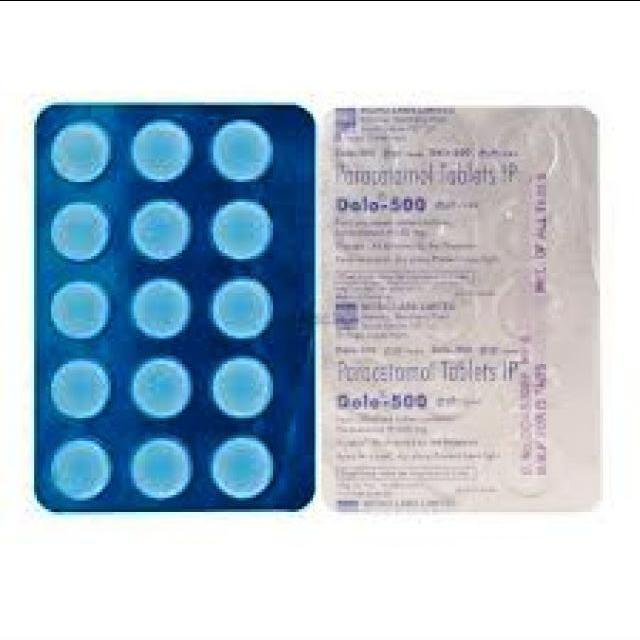authentic: (16, 94, 323, 519), (314, 96, 609, 519)
